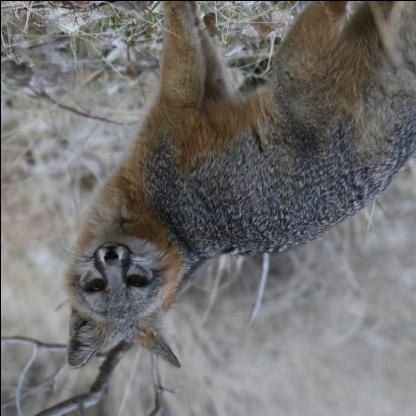zorro: (56, 0, 416, 372)
